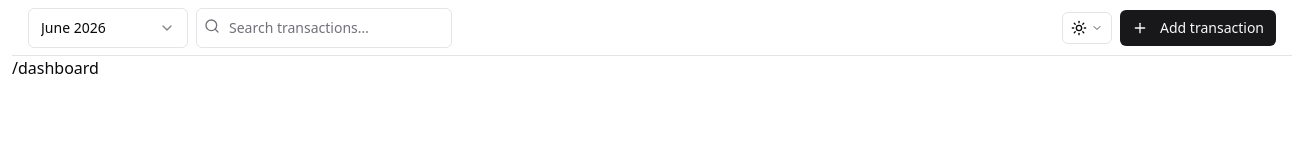
Test case: Header search › navigates to /transactions?q= after debounce once term >= 2 chars
In the search field labelled "Search transactions": (324, 28) [196,8,452,48], type "etterem"
Wait 300 ms
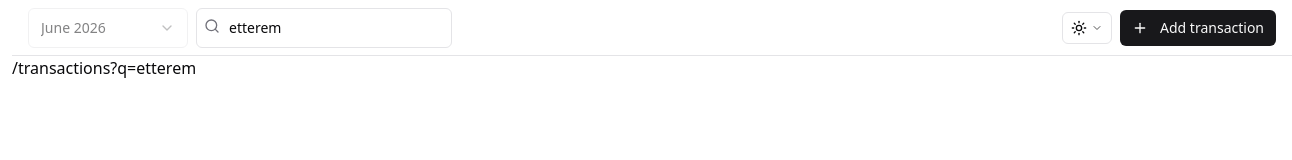
expect the text with test id "loc" reads "/transactions?q=etterem": met, box [12,57,196,79]
